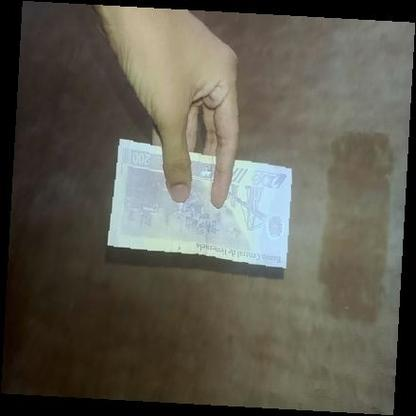two_hundred-back-vef: (106, 138, 293, 268)
